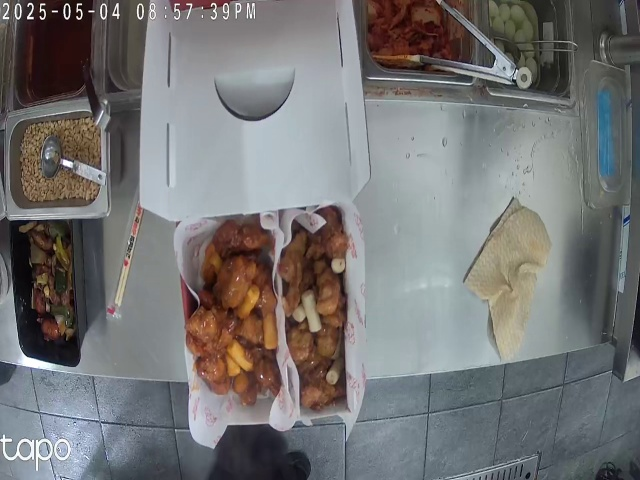delivery box: (159, 21, 364, 419)
food: (182, 223, 269, 388), (281, 210, 349, 402)
